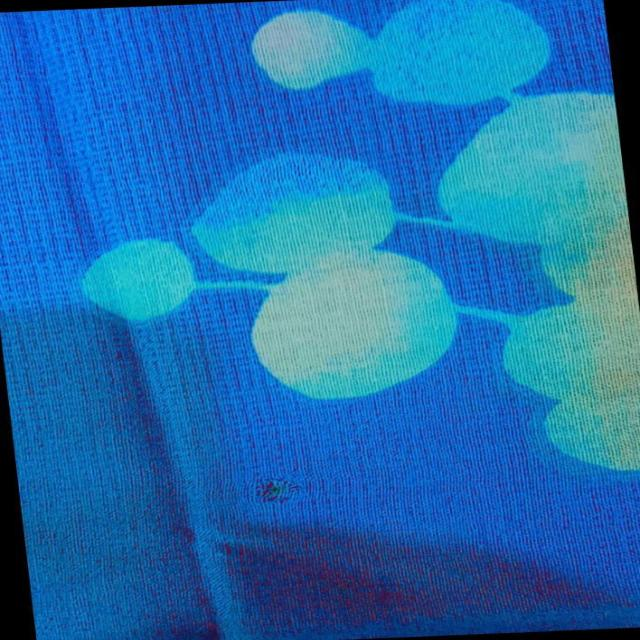cut: (204, 455, 347, 522)
